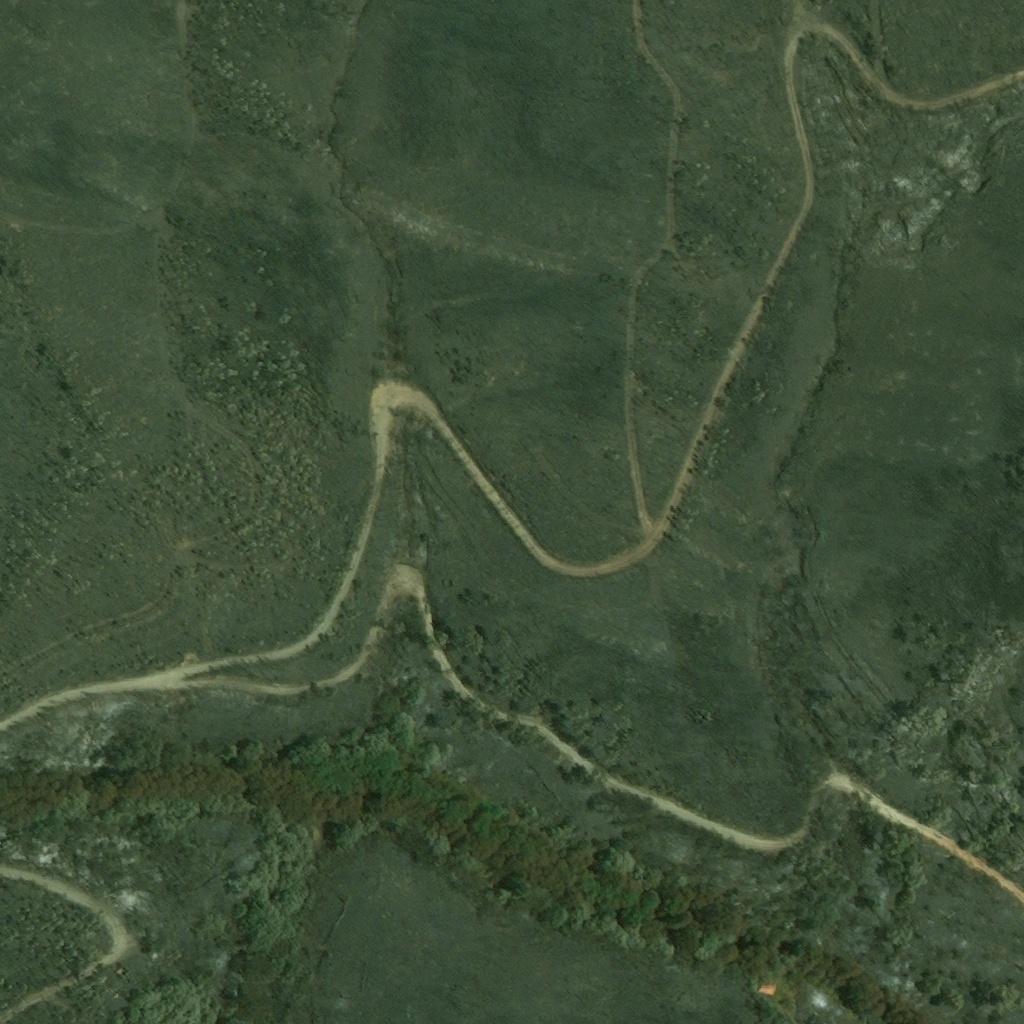0 no-damage: (755, 986, 771, 998)
